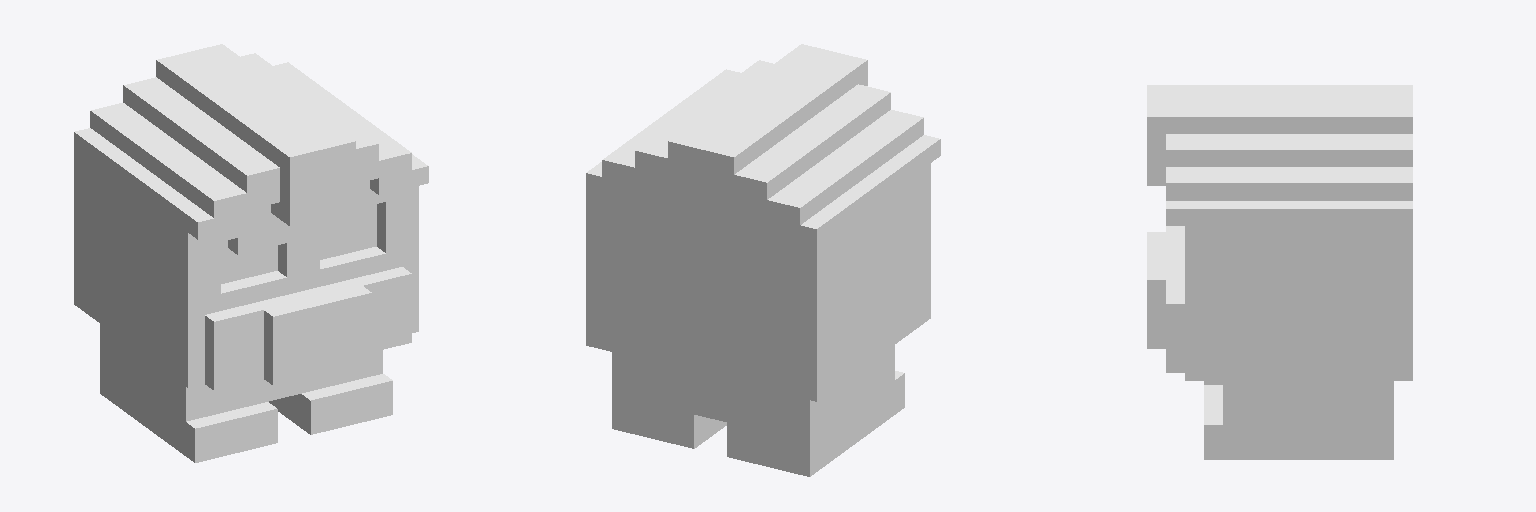
File: enemy2.obj
The picture shows the model from 3 angles: view 1: azimuth 30°, elevation 25°; view 2: azimuth 150°, elevation 25°; view 3: azimuth 270°, elevation 25°; orthographic projection.
Visible parts, largest first — view 1: enemy2; view 2: enemy2; view 3: enemy2.
Part boxes in pixels (x1,y1,x2,y2): enemy2: (74, 44, 428, 462); enemy2: (586, 44, 940, 476); enemy2: (1147, 85, 1412, 459).
Bounding box in the file's own units: 14 × 18 × 14.